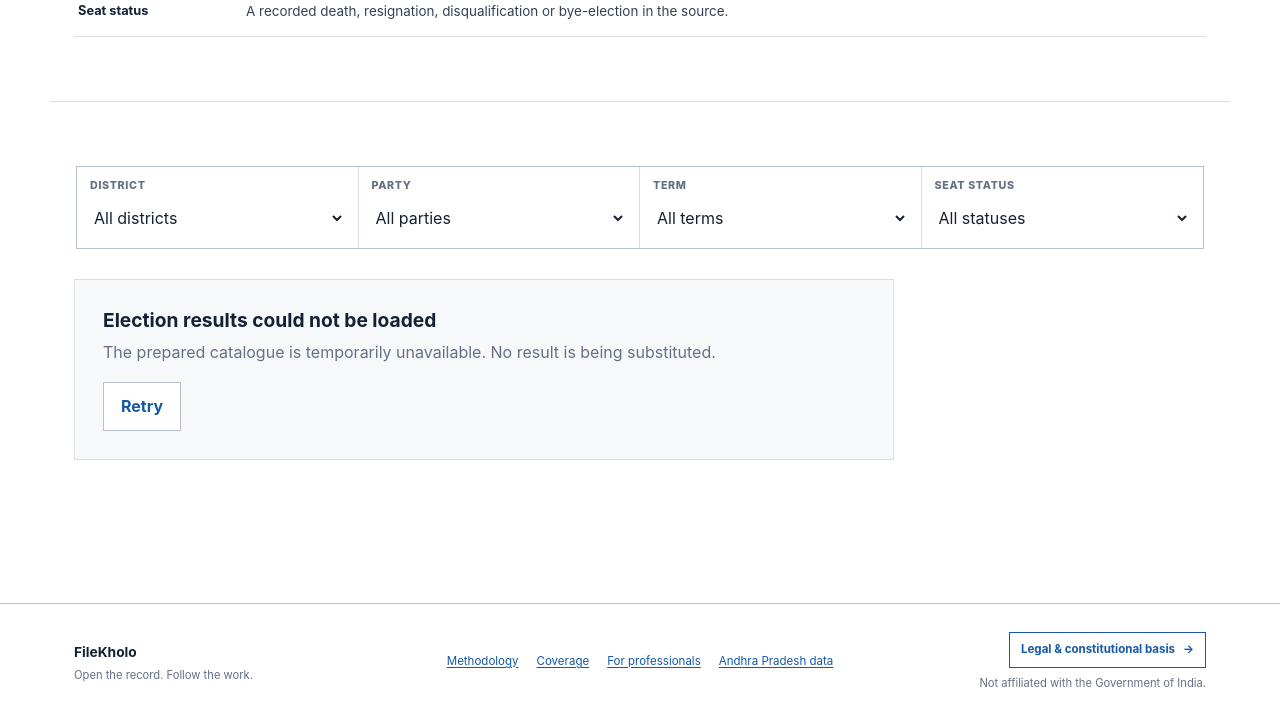
ElectionResultsDirectory › reports failures, retries, then shows filtered-empty honestly
(page scrolled)
Expected: the message shows "No result is being substituted", [103,342,716,362]
Click the button "Retry".
click(142, 407)  # box [103,382,181,431]
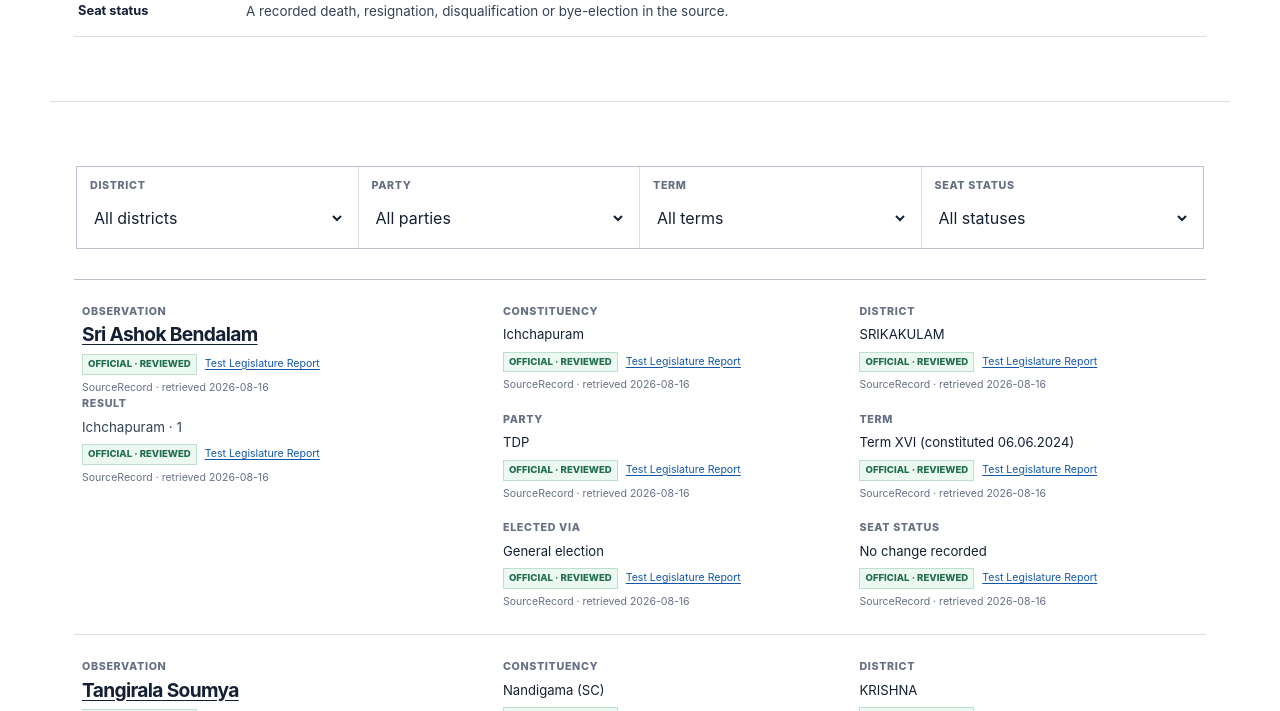
Result: the heading "Sri Ashok Bendalam" is shown at [82,322,258,346]
Select "By-election" in the dropdown labelled "Seat status" at (1062, 218), box [934,199,1190,237]
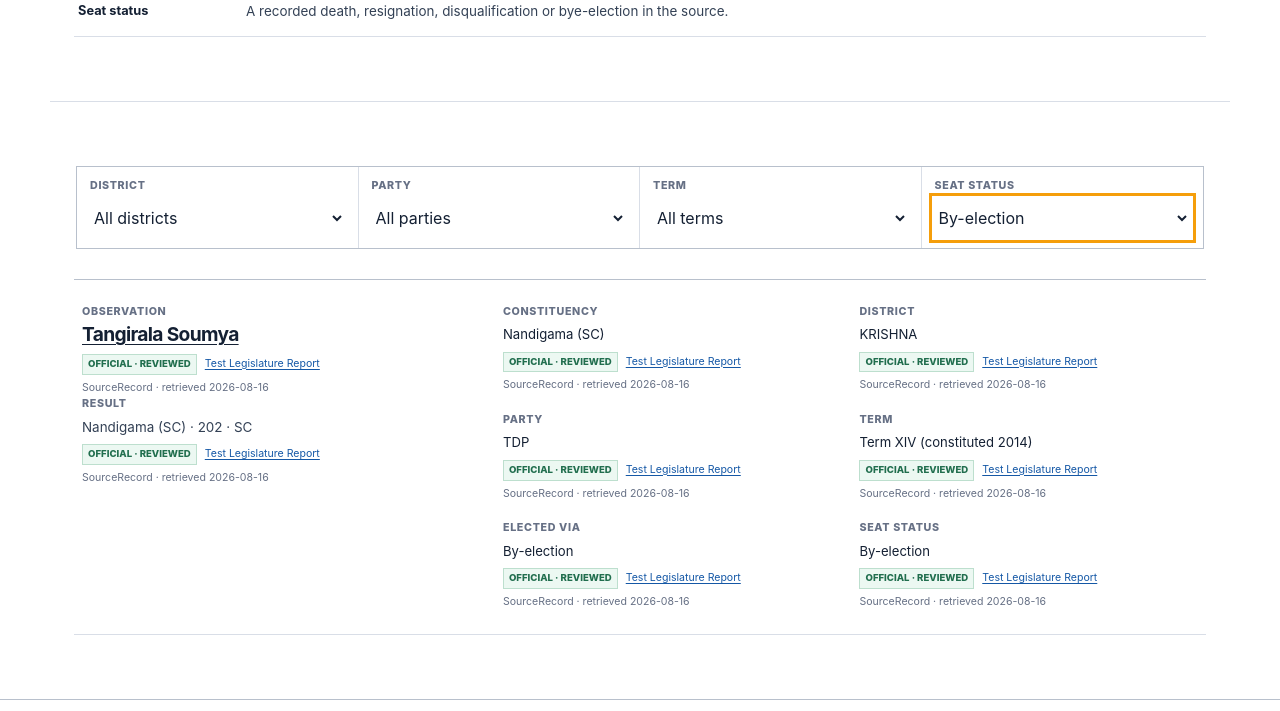
Result: the heading "Tangirala Soumya" is shown at [82,322,239,346]
Select "SRIKAKULAM" in the dropdown labelled "District" at (217, 218), box [90,199,344,237]
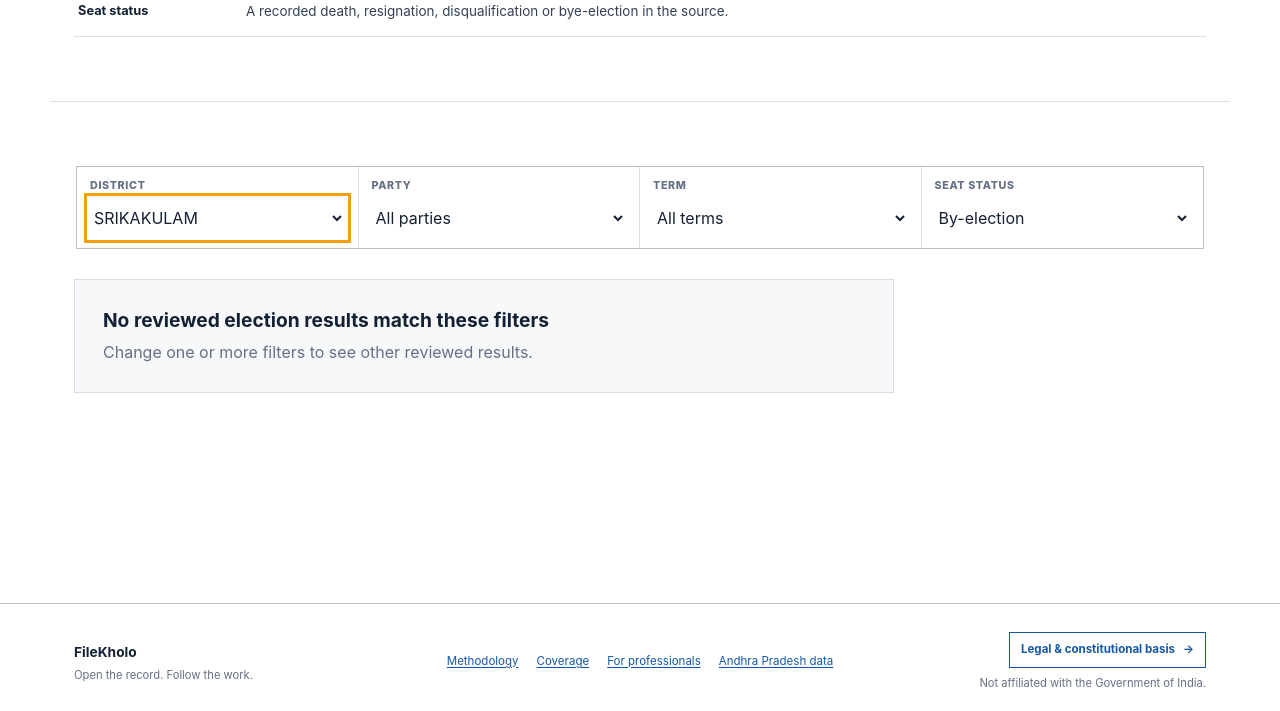
Result: the heading "No reviewed election results match these filters" is shown at [103,308,549,332]
